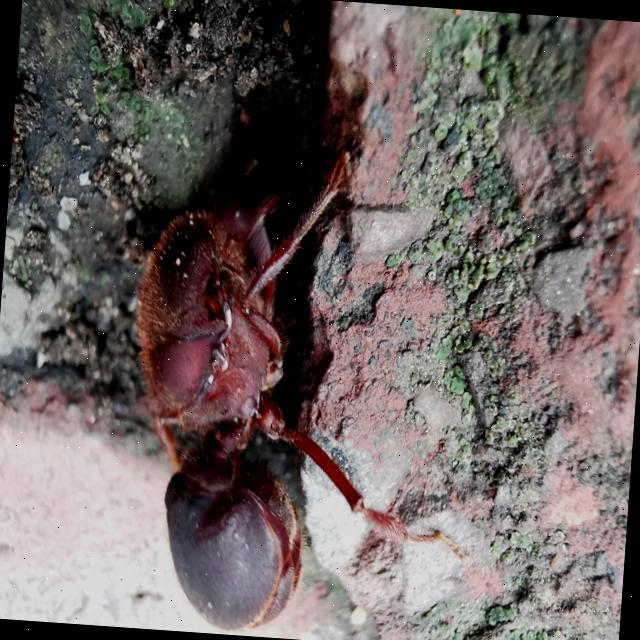Alive-Female-Dealate: (115, 134, 493, 640)
